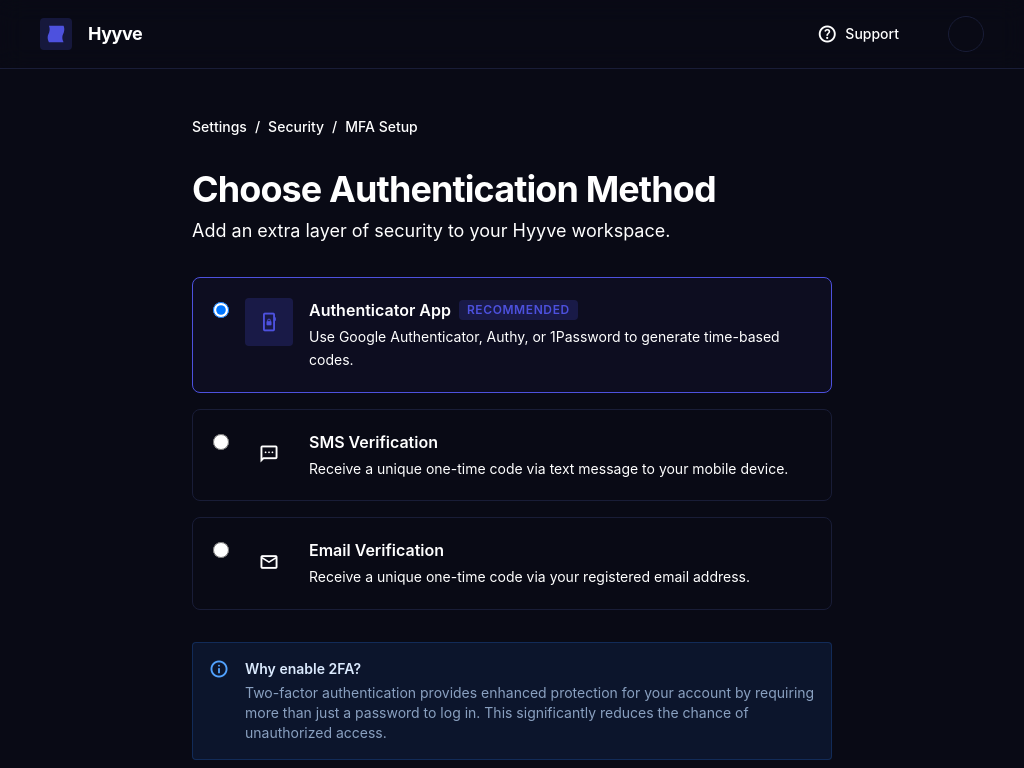
Test: MfaMethodSelection › Selection State Management › changes selection when clicking Email option
Click the text "Email Verification". click: {"x": 377, "y": 550}
box: x1=192 y1=517 x2=832 y2=610
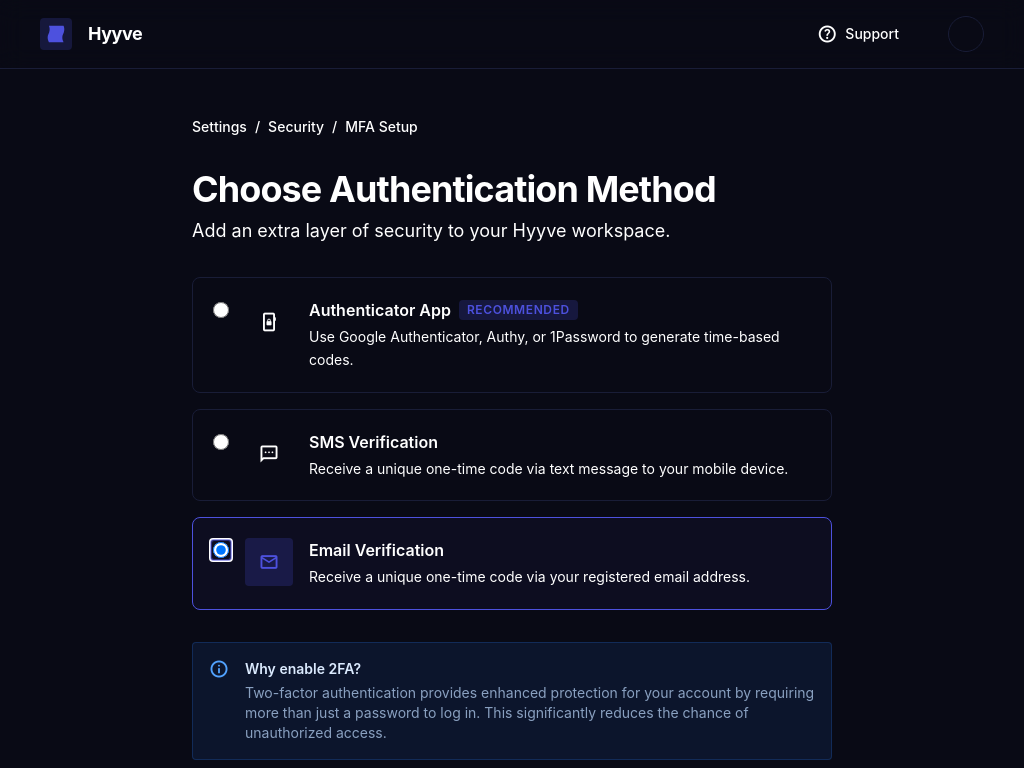
Expected: the radio button labelled "Email Verification" is checked, x1=213 y1=542 x2=229 y2=558
Expected: the radio button labelled "Authenticator App" is not checked, x1=213 y1=302 x2=229 y2=318
